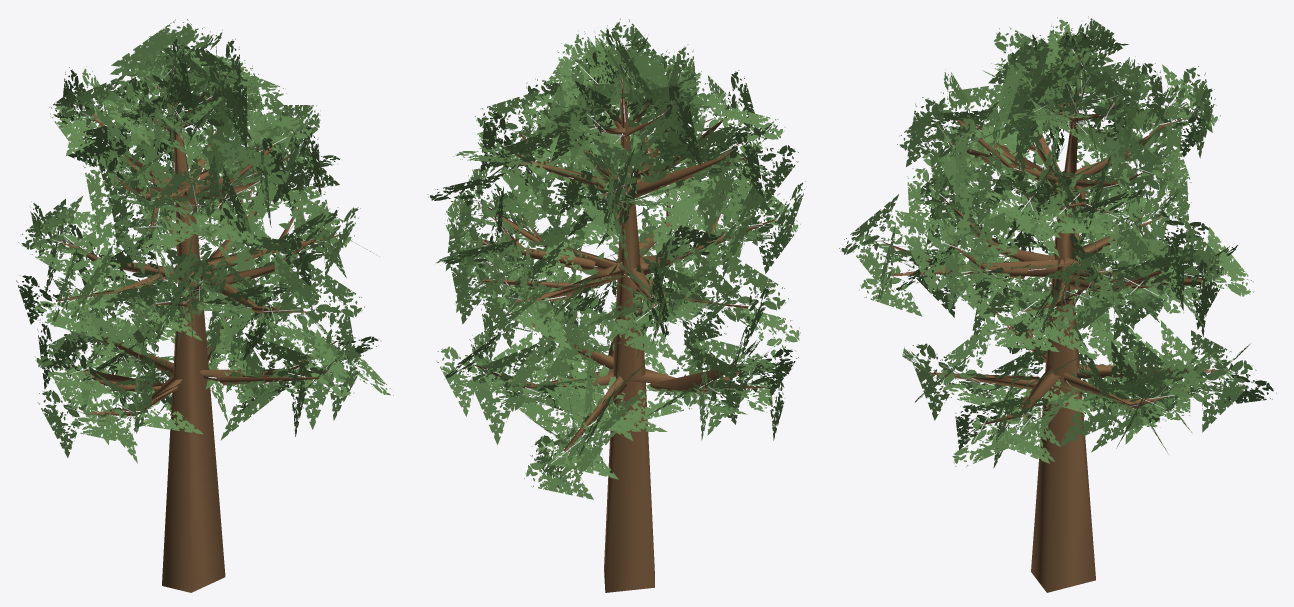
File: treeeee.fbx
3 renders of one model, left to right at view 1: azimuth 30°, elevation 25°; view 2: azimuth 150°, elevation 25°; view 3: azimuth 270°, elevation 25°, orthographic. The views are drawn at different scales.
Visible parts, largest first — view 1: tree, leaves, leaves|圆环|Dupli|309, leaves|圆环|Dupli|233, leaves|圆环|Dupli|129, leaves|圆环|Dupli|146, leaves|圆环|Dupli|47, leaves|圆环|Dupli|185, leaves|圆环|Dupli|157, leaves|圆环|Dupli|51, leaves|圆环|Dupli|24, leaves|圆环|Dupli|132 (+72 smaller); view 2: tree, leaves, leaves|圆环|Dupli|179, leaves|圆环|Dupli|182, leaves|圆环|Dupli|245, leaves|圆环|Dupli|133, leaves|圆环|Dupli|7, leaves|圆环|Dupli|74, leaves|圆环|Dupli|124, leaves|圆环|Dupli|130, leaves|圆环|Dupli|2, leaves|圆环|Dupli|306 (+85 smaller); view 3: tree, leaves, leaves|圆环|Dupli|71, leaves|圆环|Dupli|101, leaves|圆环|Dupli|246, leaves|圆环|Dupli|50, leaves|圆环|Dupli|234, leaves|圆环|Dupli|49, leaves|圆环|Dupli|153, leaves|圆环|Dupli|150, leaves|圆环|Dupli|232, leaves|圆环|Dupli|216 (+81 smaller).
Part boxes in pixels (<box>): tree: <box>56,66,347,592</box>; leaves: <box>47,51,365,419</box>; leaves|圆环|Dupli|309: <box>111,19,195,75</box>; leaves|圆环|Dupli|233: <box>212,138,291,202</box>; leaves|圆环|Dupli|129: <box>62,280,141,354</box>; leaves|圆环|Dupli|146: <box>276,255,329,321</box>; leaves|圆环|Dupli|47: <box>220,367,293,440</box>; leaves|圆环|Dupli|185: <box>83,154,131,233</box>; leaves|圆环|Dupli|157: <box>308,262,364,323</box>; leaves|圆环|Dupli|51: <box>305,329,354,397</box>; leaves|圆环|Dupli|24: <box>37,390,86,457</box>; leaves|圆环|Dupli|132: <box>31,289,102,340</box>; tree: <box>467,69,775,592</box>; leaves: <box>462,54,787,463</box>; leaves|圆环|Dupli|179: <box>640,174,710,254</box>; leaves|圆环|Dupli|182: <box>685,146,740,237</box>; leaves|圆环|Dupli|245: <box>499,143,556,231</box>; leaves|圆环|Dupli|133: <box>725,250,788,317</box>; leaves|圆环|Dupli|7: <box>501,328,554,411</box>; leaves|圆环|Dupli|74: <box>524,442,593,499</box>; leaves|圆环|Dupli|124: <box>611,300,678,361</box>; leaves|圆环|Dupli|130: <box>694,247,749,321</box>; leaves|圆环|Dupli|2: <box>538,315,604,408</box>; leaves|圆环|Dupli|306: <box>606,40,680,101</box>; tree: <box>881,55,1229,592</box>; leaves: <box>874,49,1235,441</box>; leaves|圆环|Dupli|71: <box>1202,360,1256,432</box>; leaves|圆环|Dupli|101: <box>978,304,1059,351</box>; leaves|圆环|Dupli|246: <box>1115,121,1169,196</box>; leaves|圆环|Dupli|50: <box>912,343,965,420</box>; leaves|圆环|Dupli|234: <box>906,97,955,166</box>; leaves|圆环|Dupli|49: <box>935,319,994,392</box>; leaves|圆环|Dupli|153: <box>902,220,951,293</box>; leaves|圆环|Dupli|150: <box>944,234,989,311</box>; leaves|圆环|Dupli|232: <box>933,134,989,218</box>; leaves|圆环|Dupli|216: <box>1135,104,1183,194</box>.
Bounding box in the file's own units: 337 × 545 × 385.
Materials: 2 (1 with a texture image).
